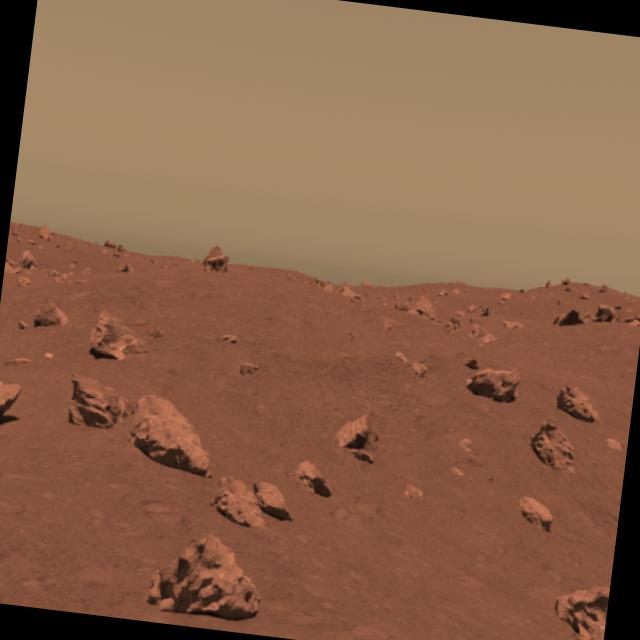rock: (136, 528, 274, 614), (122, 388, 217, 473), (541, 570, 610, 640), (81, 306, 145, 368), (64, 372, 124, 438), (549, 378, 605, 427)
